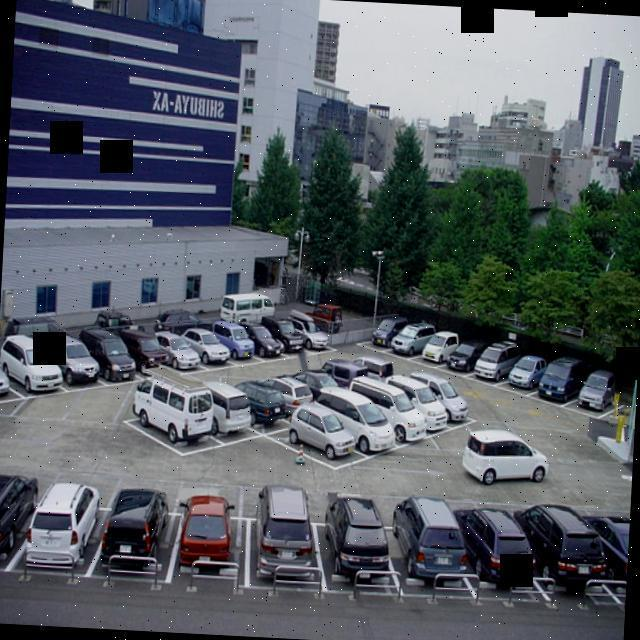car: (512, 504, 608, 604), (22, 486, 112, 580), (450, 502, 540, 595), (96, 494, 184, 582), (388, 502, 468, 596), (315, 503, 397, 593), (174, 506, 253, 584), (250, 505, 319, 585), (0, 464, 41, 568), (360, 392, 430, 452), (138, 408, 210, 461), (187, 388, 260, 440), (286, 416, 352, 472), (384, 386, 452, 440), (325, 402, 391, 456), (40, 339, 106, 393), (227, 378, 290, 433), (5, 345, 60, 403), (80, 334, 139, 386), (298, 359, 377, 394), (419, 380, 473, 427), (542, 356, 588, 411), (115, 324, 169, 370), (151, 330, 203, 374), (182, 325, 235, 367), (256, 380, 313, 418), (505, 353, 549, 398), (270, 365, 336, 395), (576, 378, 620, 422), (444, 336, 488, 378), (473, 344, 518, 384), (282, 313, 330, 350), (261, 317, 310, 353), (338, 352, 393, 384), (212, 323, 260, 359), (420, 330, 463, 367), (389, 322, 433, 358), (242, 326, 289, 358), (360, 320, 407, 351)
